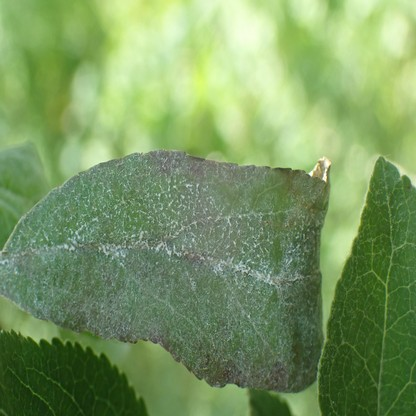powder: (0, 151, 332, 392)
